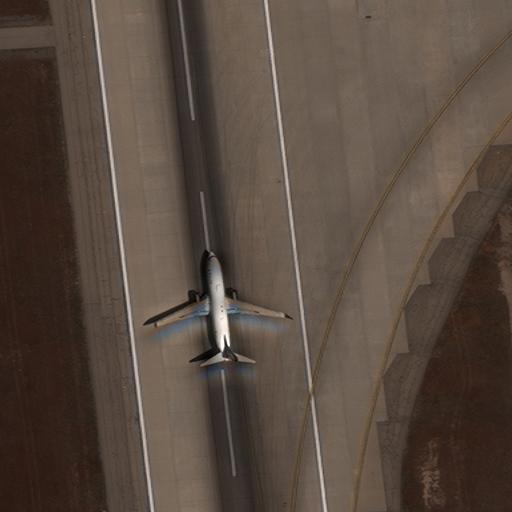Medium Civil Transport: (145, 250, 282, 362)
